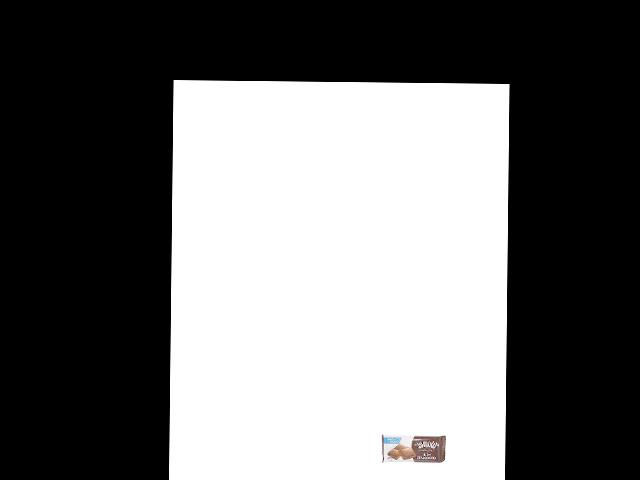chocolate: (380, 433, 445, 464)
